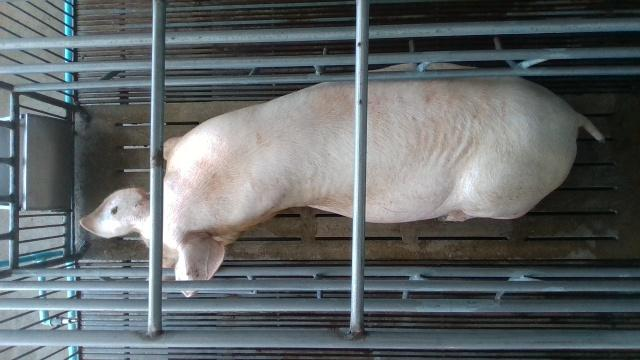sow-sit: (80, 59, 603, 298)
